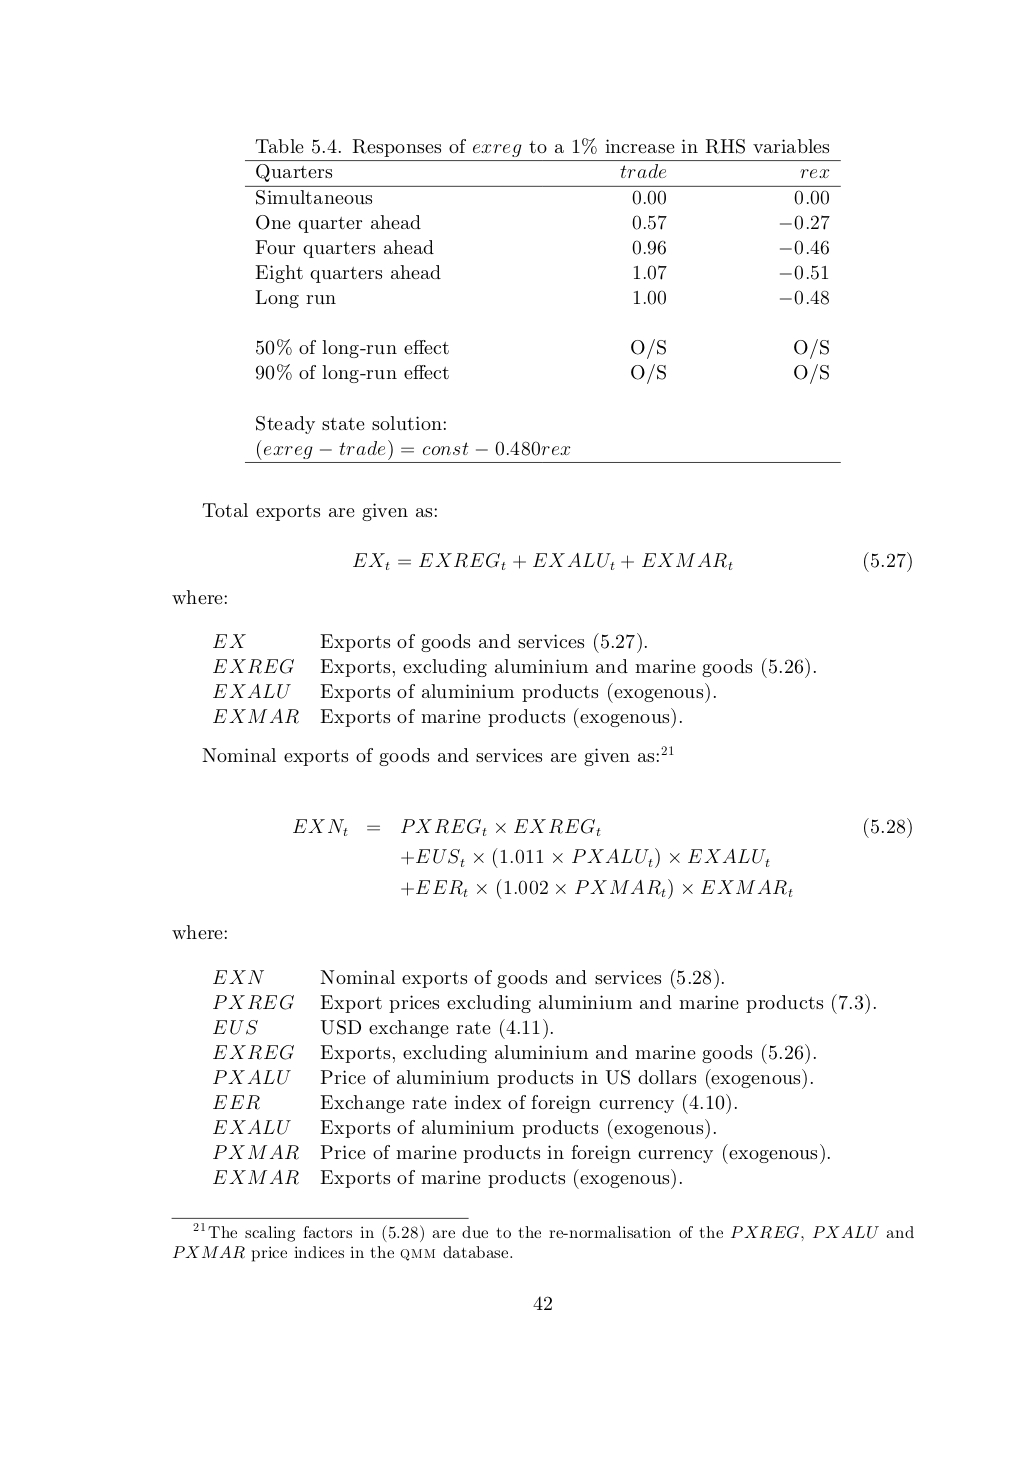Table: (245, 138, 840, 462)
formula: (293, 817, 911, 838), (353, 551, 911, 572), (401, 879, 792, 899), (401, 847, 770, 868)
